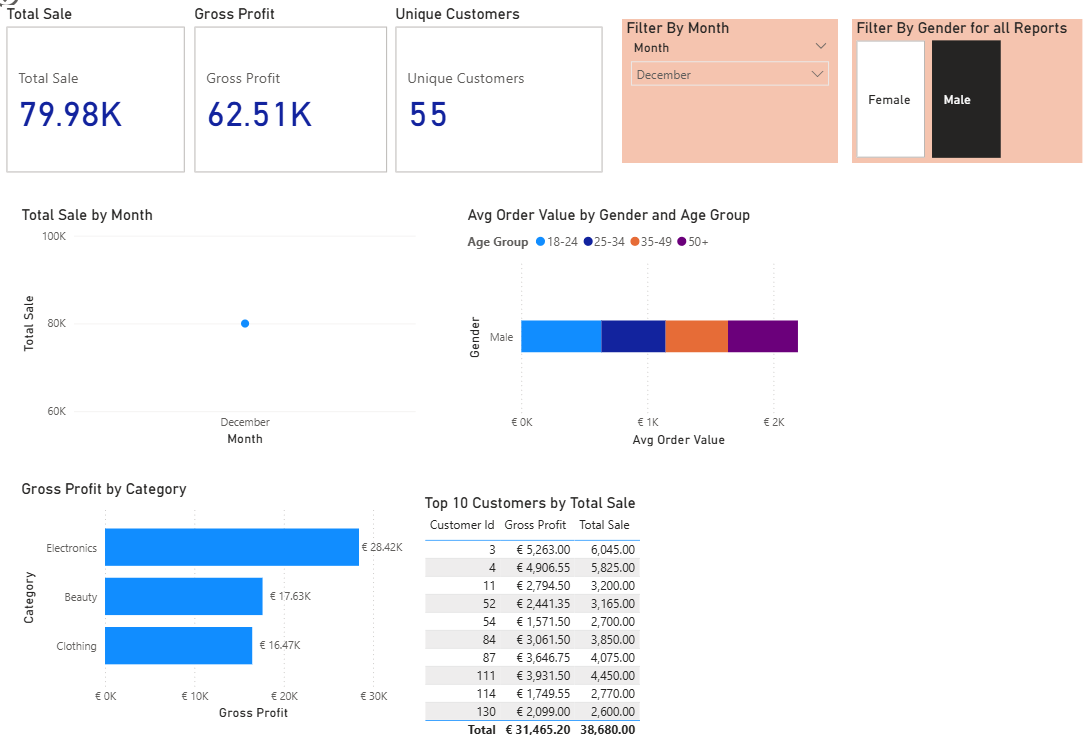

The dashboard page shown, as its layout file describes it:
{"tool":"powerbi","page":{"name":"Page 1","canvas":[1600,900],"ordinal":0},"visuals":[{"type":"lineChart","fields":{"Y":["Catergory.Total Sale"],"Category":["Date.Month"]},"box":[32,256,448,272],"z":0},{"type":"actionButton","box":[0,0,100,40],"z":1000},{"type":"barChart","fields":{"Category":["Catergory.Category"],"Y":["Catergory.Gross Profit"]},"box":[48,560,432,272],"z":2000},{"type":"tableEx","fields":{"Values":["Customers.Customer Id","Catergory.Gross Profit","Catergory.Total Sale"]},"box":[480,576,432,288],"z":3000},{"type":"donutChart","fields":{"Category":["Customers.Gender"],"Y":["Catergory.Total Sale"]},"box":[896,592,336,288],"z":4000},{"type":"barChart","fields":{"Category":["Customers.Gender"],"Y":["Catergory.Avg Order Value"],"Series":["Retail Sales Data.Age Group"]},"box":[528,256,432,272],"z":5000},{"type":"cardVisual","title":"Total Revenue","fields":{"Data":["Catergory.Total Sale"]},"box":[16,32,272,192],"z":6000},{"type":"cardVisual","title":"Gross Profit","fields":{"Data":["Catergory.Gross Profit"]},"box":[304,32,272,192],"z":7000},{"type":"cardVisual","title":"Unique Customers","fields":{"Data":["Catergory.Unique Customer"]},"box":[592,32,272,192],"z":8000},{"type":"advancedSlicerVisual","title":"Filter By Gender for all Reports","fields":{"Values":["Customers.Gender"]},"box":[1247.8,64.4,352,160],"z":9000},{"type":"slicer","title":"Filter By Month","fields":{"Values":["Date.Month"]},"box":[879.8,64.4,336,160],"z":10000}]}

Visuals, with their boxes on the page's 1600x900 design canvas (x1, y1, x2, y2). These are canvas units, not pixel positions in the 1087x750 screenshot, which may show the page scaled, cropped or inside an application window:
lineChart - Catergory.Total Sale x Date.Month: (32,256,480,528)
actionButton: (0,0,100,40)
barChart - Catergory.Category x Catergory.Gross Profit: (48,560,480,832)
tableEx - Customers.Customer Id x Catergory.Gross Profit: (480,576,912,864)
donutChart - Customers.Gender x Catergory.Total Sale: (896,592,1232,880)
barChart - Customers.Gender x Catergory.Avg Order Value: (528,256,960,528)
"Total Revenue" cardVisual: (16,32,288,224)
"Gross Profit" cardVisual: (304,32,576,224)
"Unique Customers" cardVisual: (592,32,864,224)
"Filter By Gender for all Reports" advancedSlicerVisual: (1248,64,1600,224)
"Filter By Month" slicer: (880,64,1216,224)
